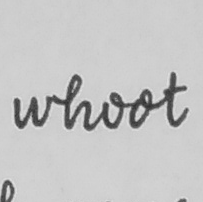h: (60, 72, 94, 133)
o: (128, 86, 155, 132), (99, 90, 126, 132)
t: (161, 69, 191, 129)
w: (10, 92, 54, 132)
